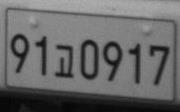0: (79, 38, 99, 80)
1: (125, 43, 147, 84), (32, 35, 52, 75)
7: (148, 44, 171, 86)
9: (102, 40, 123, 81), (9, 32, 29, 73)
고: (53, 44, 73, 78)
